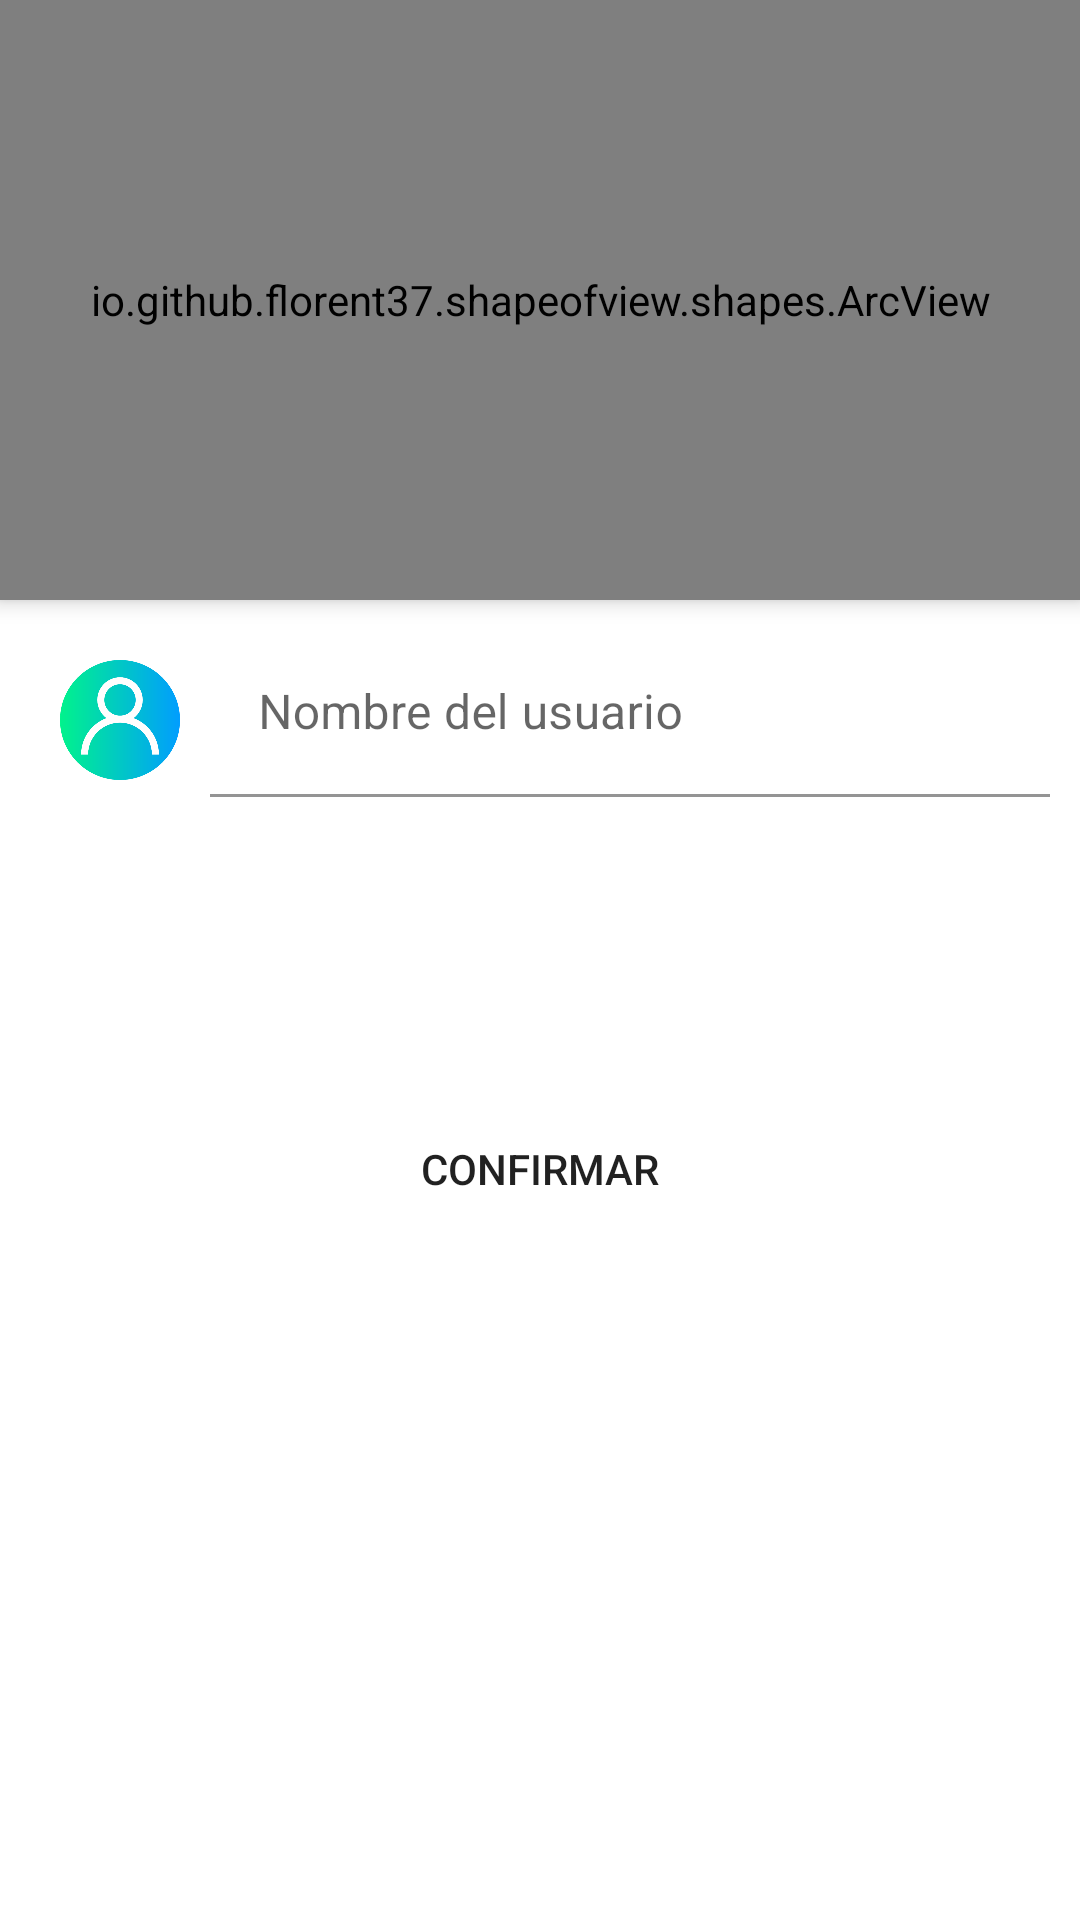

Where to tap for icons on this 1080w x 1920h app screen, as [x,y]:
user: [120,720]
